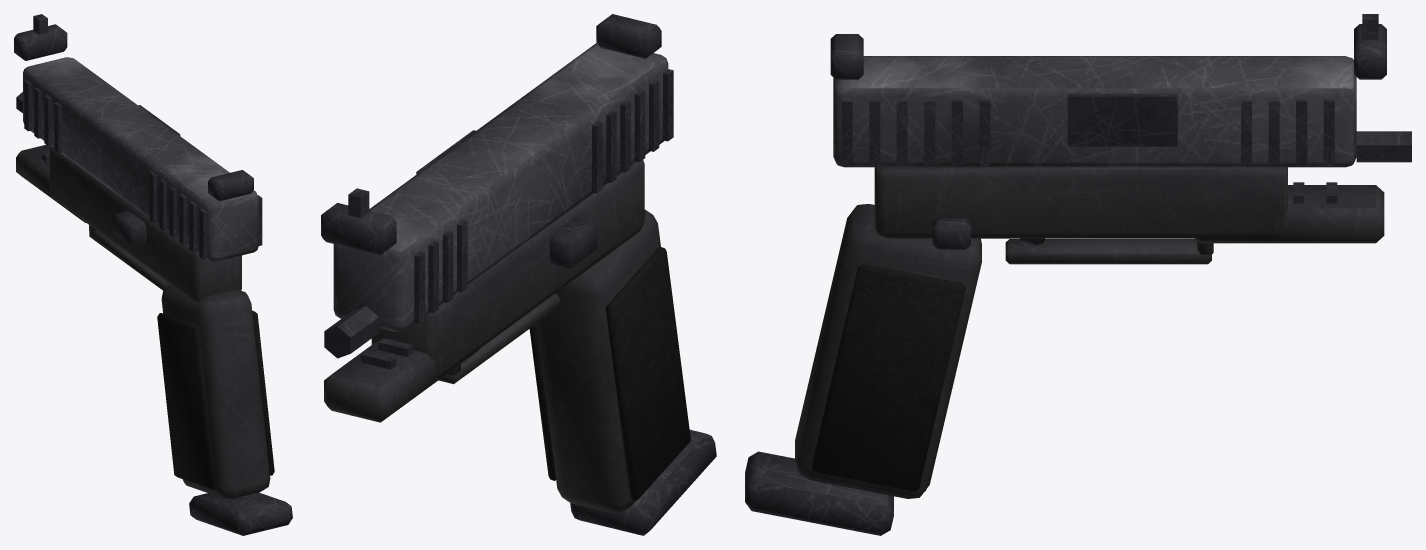
File: pistol.glb
3 views of the same model, side by side, from view 1: azimuth 30°, elevation 25°; view 2: azimuth 150°, elevation 25°; view 3: azimuth 270°, elevation 25° (orthographic). The views are drawn at different scales.
Visible parts, largest first — view 1: body, slide; view 2: body, slide; view 3: body, slide.
Part boxes in pixels (x1,y1,x2,y2): body: (16, 144, 292, 535); slide: (14, 14, 262, 261); body: (324, 160, 716, 535); slide: (321, 14, 673, 358); body: (745, 167, 1384, 535); slide: (830, 14, 1411, 167).
Bounding box in the file's own units: 0.045 × 0.2019 × 0.242.
Materials: 4 (4 with a texture image).
